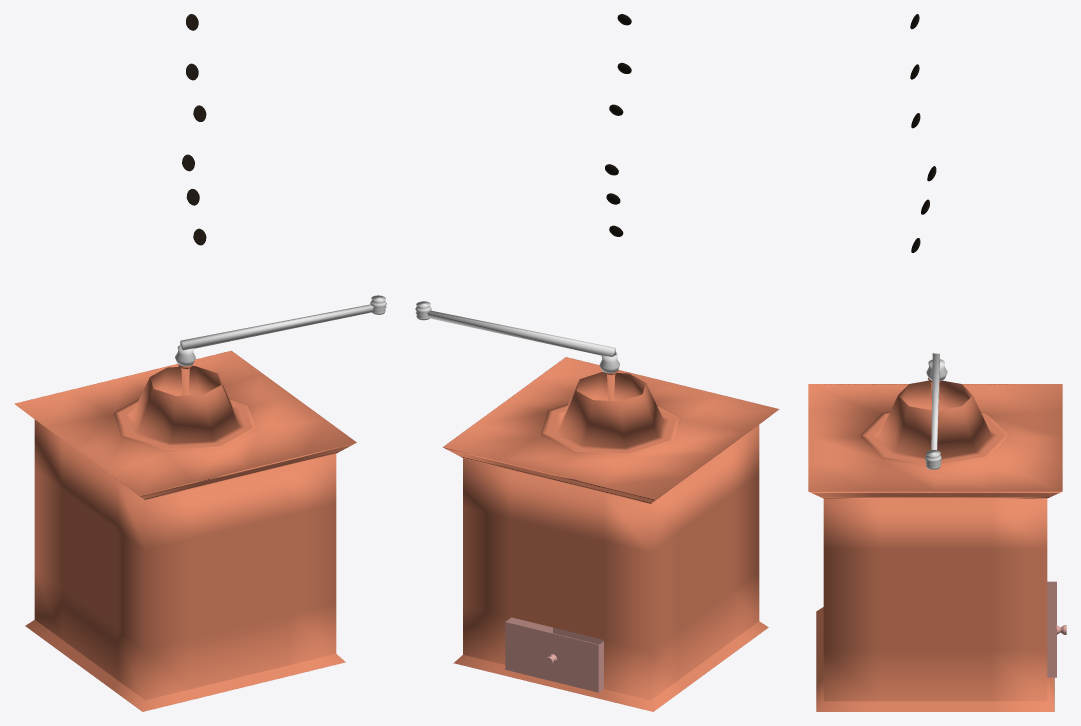
The model's file is Grinder.glb.
3 renders of one model, left to right at view 1: azimuth 30°, elevation 25°; view 2: azimuth 150°, elevation 25°; view 3: azimuth 270°, elevation 25°, orthographic. The views are drawn at different scales.
Parts seen in each view (by area): view 1: Cube, Cylinder.001; view 2: Cube, Cylinder, Cylinder.001; view 3: Cube, Cylinder.001, Cylinder.
Boxes of the visible parts, x1,y1,x2,y2 form: Cube: [14, 350, 356, 711]; Cylinder.001: [175, 295, 386, 366]; Cube: [443, 357, 779, 711]; Cylinder: [505, 617, 603, 692]; Cylinder.001: [415, 301, 619, 373]; Cube: [808, 378, 1062, 711]; Cylinder.001: [925, 353, 947, 469]; Cylinder: [1047, 581, 1066, 677].
Size of the model in its own units: 3.22 by 6.37 by 2.31.
